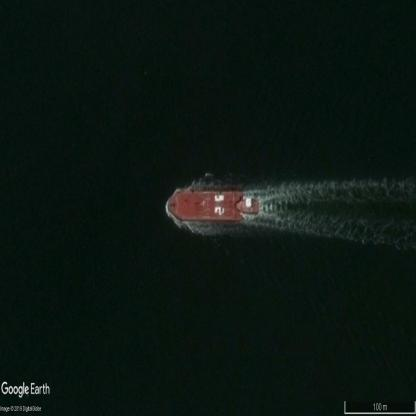ship: (166, 189, 259, 224)
